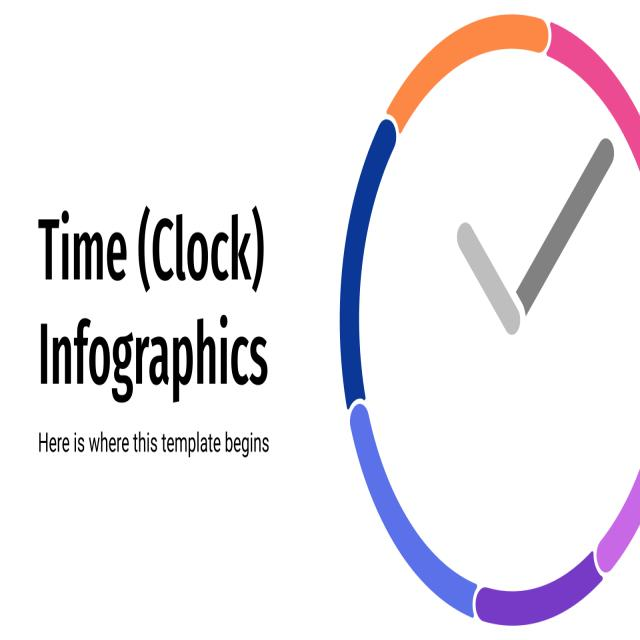clock: (297, 0, 640, 640)
